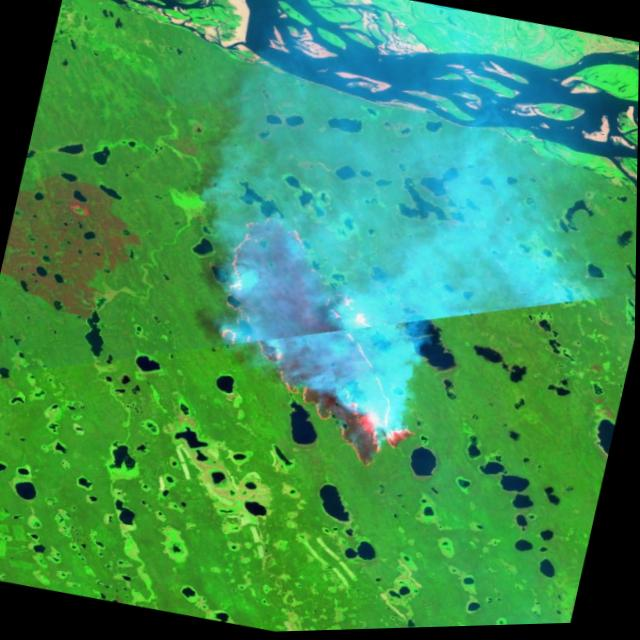fire: (185, 204, 462, 484)
